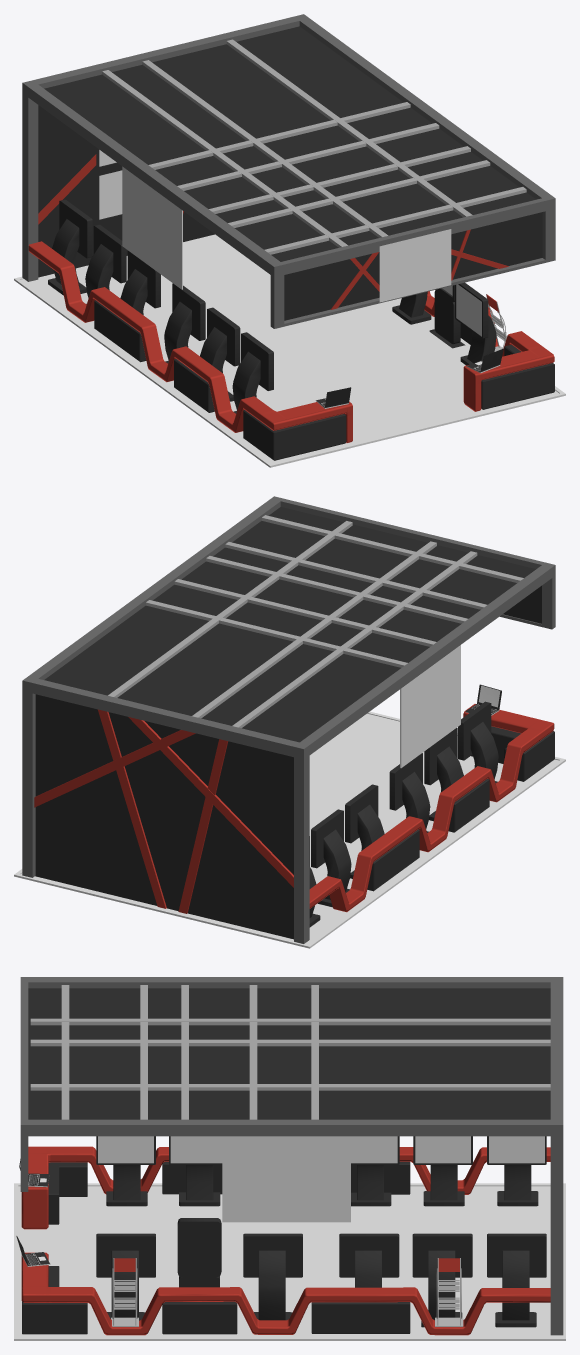
The model's file is Expo2_Booth2_Final_Reto1.fbx.
The picture shows the model from 3 angles, top to bottom: view 1: azimuth 30°, elevation 25°; view 2: azimuth 150°, elevation 25°; view 3: azimuth 270°, elevation 25°; orthographic projection. The views are drawn at different scales.
Parts seen in each view (by area): view 1: Plane, Plane.024, Cube.008, Cube.012, Cube, Plane.002, Plane.001, Cube.001, Plane.010, Plane.003, Plane.018, Plane.026 (+11 smaller); view 2: Plane, Plane.001, Cube.008, Cube.012, Plane.024, Cube.010, Cube, Plane.010, Plane.027, Plane.031, Plane.029, Plane.028 (+5 smaller); view 3: Plane, Plane.024, Cube.008, Cube.012, Cube, Plane.004, Cube.015, Cube.001, Plane.014, Plane.025, Cube.013, Plane.020 (+10 smaller).
Boxes of the visible parts, x1,y1,x2,y2 form: Plane: (44,26,535,261); Plane.024: (14,234,565,467); Cube.008: (22,14,555,328); Cube.012: (102,39,526,254); Cube: (28,241,554,442); Plane.002: (284,212,542,320); Plane.001: (38,105,214,277); Cube.001: (243,344,554,460); Plane.010: (122,166,182,289); Plane.003: (379,229,451,302); Plane.018: (455,282,496,365); Plane.026: (48,199,92,295); Plane: (44,507,535,742); Plane.001: (35,694,293,939); Cube.008: (22,496,555,943); Cube.012: (108,515,523,728); Plane.024: (14,711,565,948); Cube.010: (34,709,293,913); Cube: (309,704,554,912); Plane.010: (400,645,460,768); Plane.027: (311,809,351,907); Plane.031: (458,701,498,782); Plane.029: (389,753,430,832); Plane.028: (345,784,384,878); Plane: (28,988,550,1119); Plane.024: (14,1183,565,1340); Cube.008: (20,977,563,1335); Cube.012: (30,985,550,1119); Cube: (21,1146,550,1335); Plane.004: (222,1136,350,1222); Cube.015: (311,1161,410,1333); Cube.001: (22,1162,87,1334); Plane.014: (243,1233,302,1320); Plane.025: (487,1233,546,1327); Cube.013: (162,1161,237,1334); Plane.020: (412,1233,472,1327).
Size of the model in its own units: 800 by 509 by 1200.
